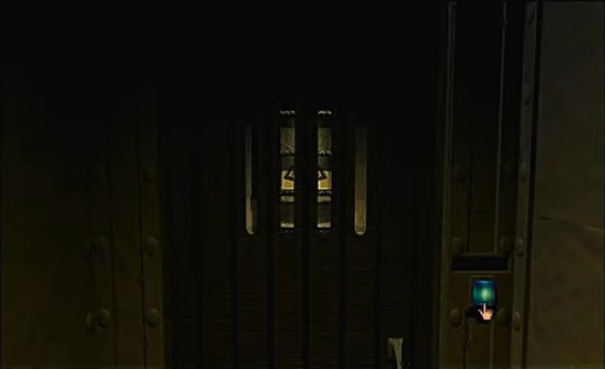Pointer: (475, 300, 497, 323)
